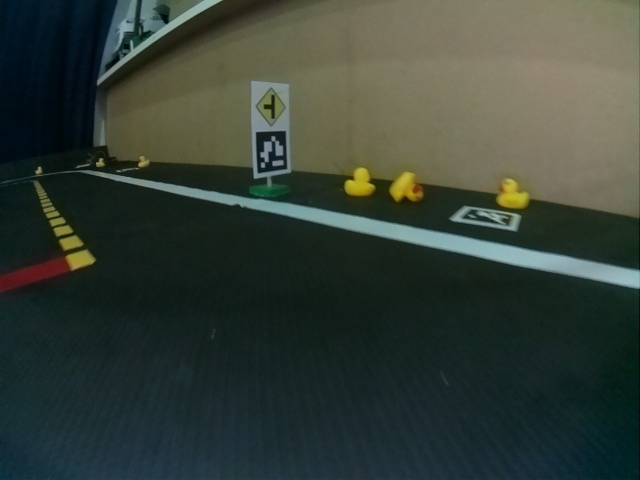Duckie: (390, 172, 423, 201), (498, 178, 529, 208), (345, 168, 375, 195), (138, 156, 149, 167), (35, 166, 44, 176), (96, 158, 105, 166)
Intersection sign: (253, 86, 288, 127)
QR code: (449, 205, 521, 231), (253, 130, 291, 174)
